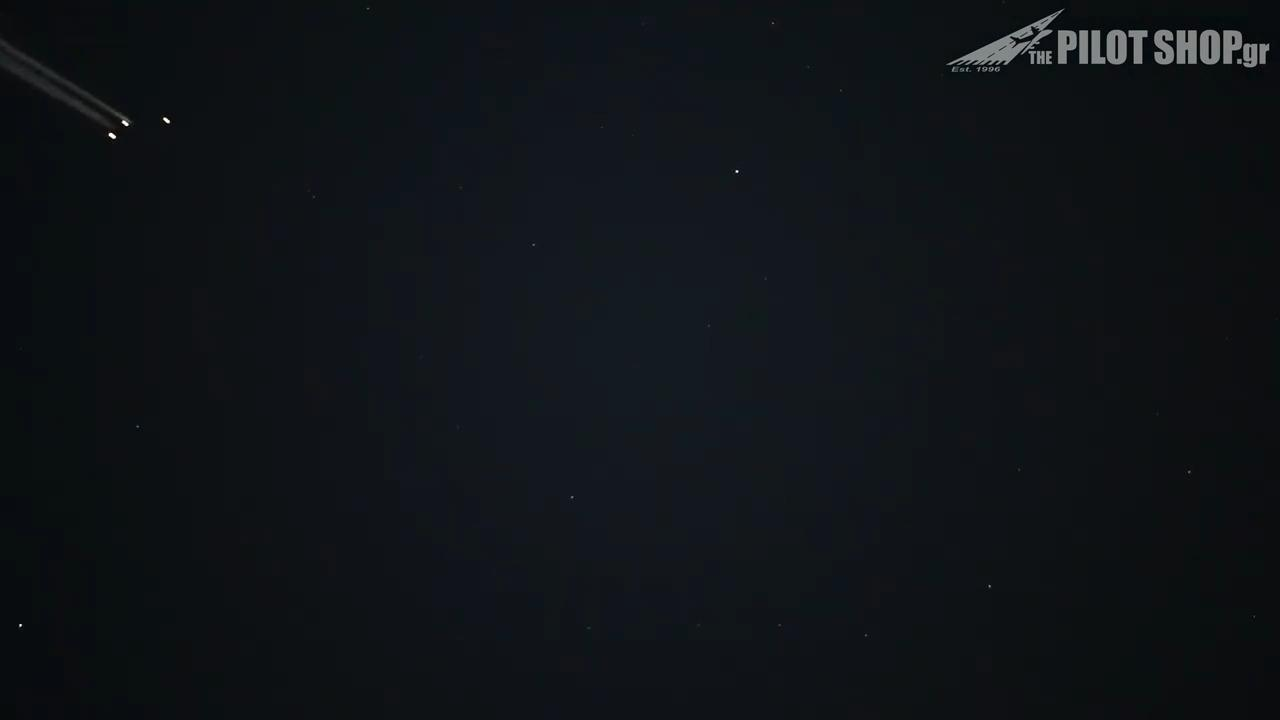Plane: (1, 3, 201, 167)
